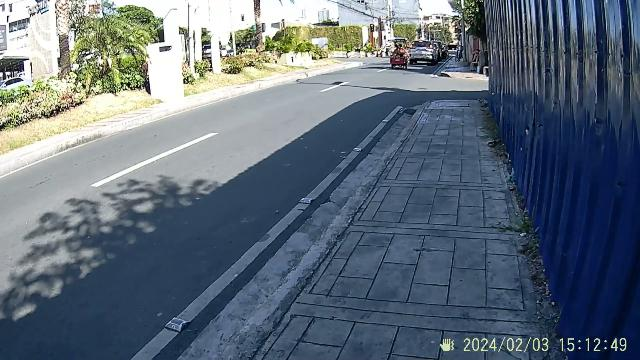cracked_pavement: (317, 183, 359, 231)
